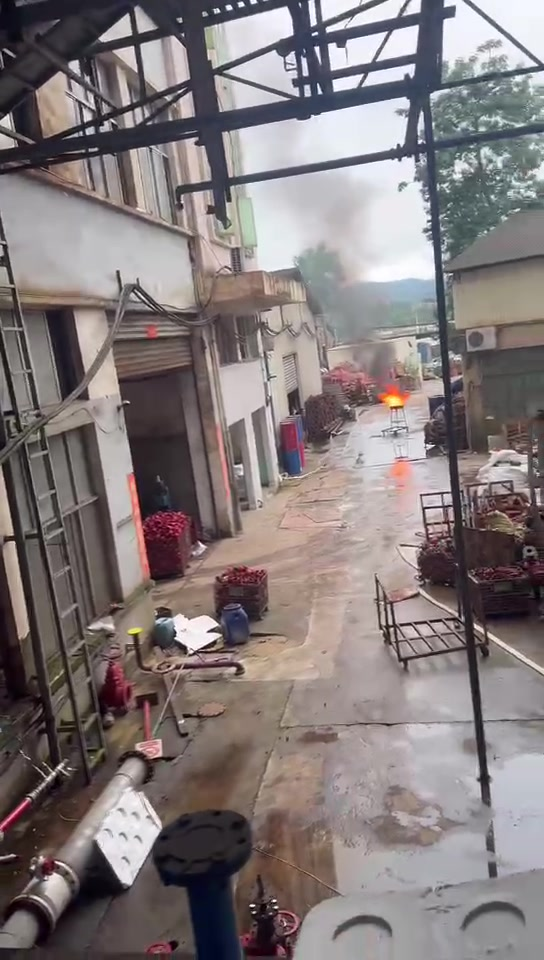fire: (379, 383, 407, 406)
